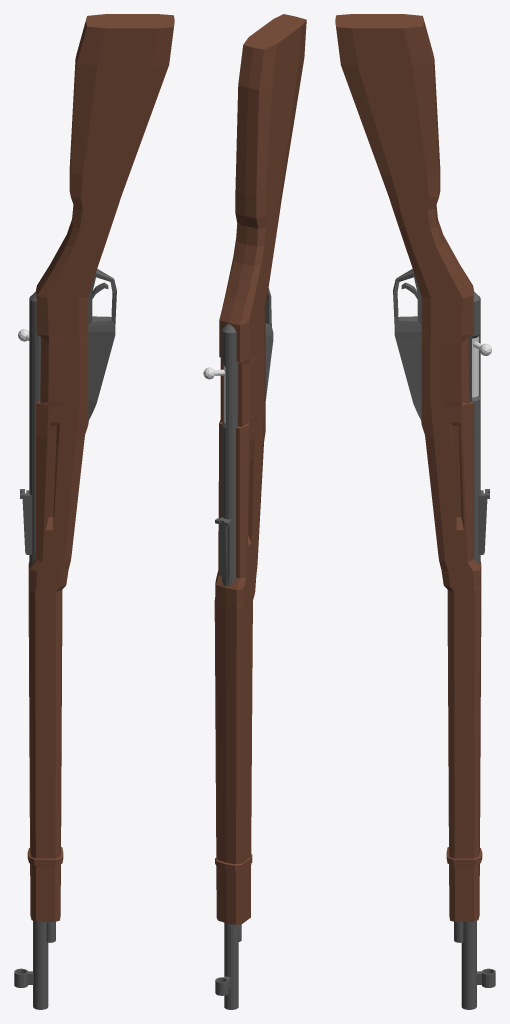
Rendered from Mosin-Nagant.fbx.
3 renders of one model, left to right at view 1: azimuth 90°, elevation 25°; view 2: azimuth 150°, elevation 25°; view 3: azimuth 270°, elevation 25°, orthographic. The views are drawn at different scales.
Visible parts, largest first — view 1: Mosin-Nagant; view 2: Mosin-Nagant; view 3: Mosin-Nagant.
Boxes of the visible parts, x1,y1,x2,y2 form: Mosin-Nagant: (14,14,174,1009); Mosin-Nagant: (203,14,306,1009); Mosin-Nagant: (335,14,495,1009).
Bounding box in the file's own units: 17.11 × 457 × 67.39.
